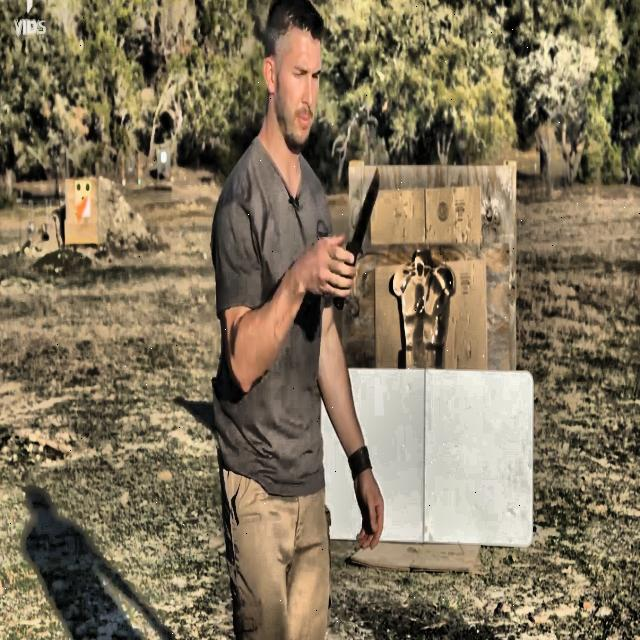knife: (334, 170, 380, 313)
